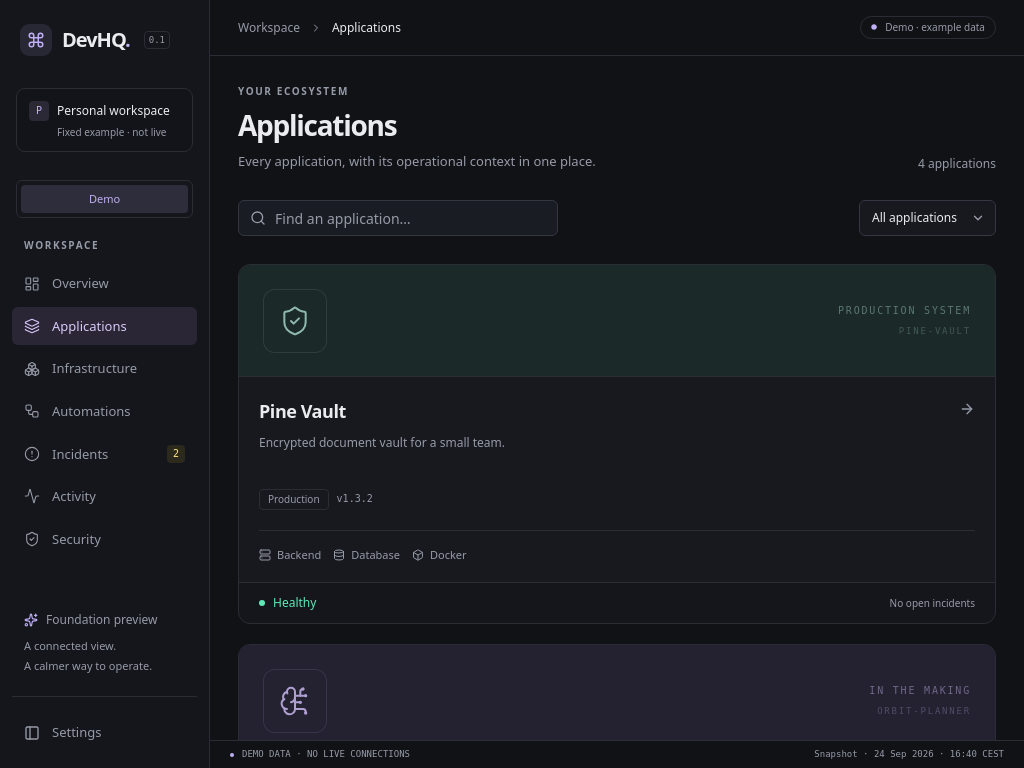
Scenario: workspace navigation › filters applications and recovers from an empty search
This screenshot has width=1024, height=768.
Select "Needs attention" in the dropdown named "Filter applications" at (928, 218), box [859,200,996,236]
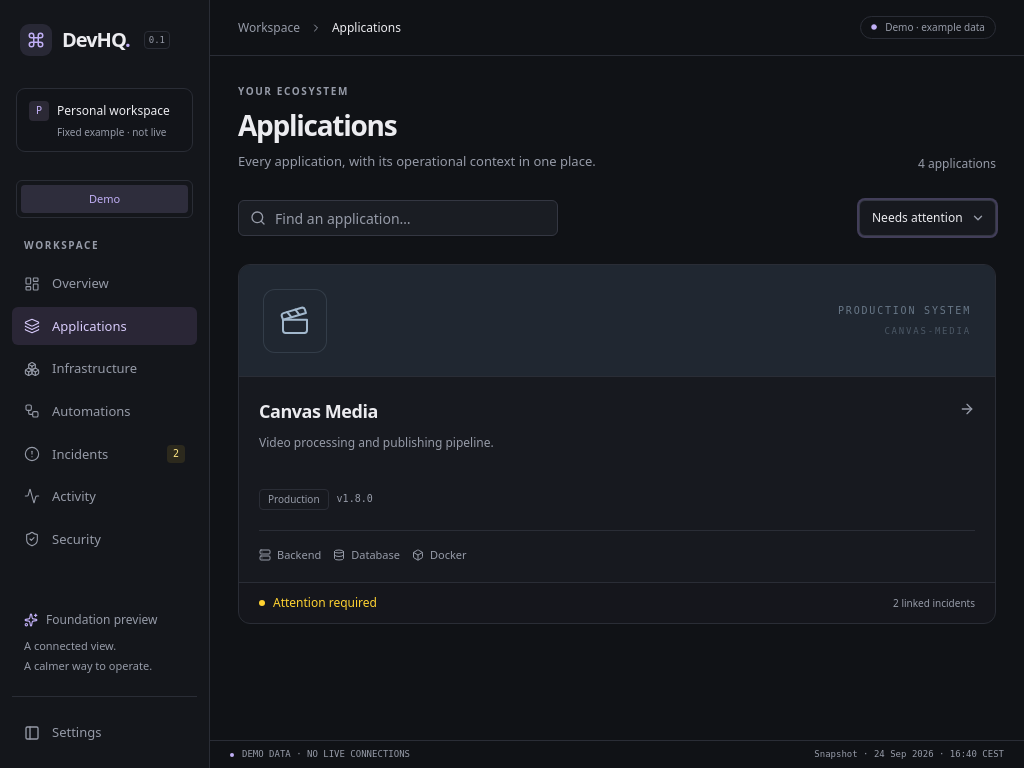
Expected: the link with aria-label "Open Canvas Media" is shown, [238,264,996,624]
Type "no-such-app" into the field named "Search applications" at (398, 218), box [238,200,558,236]
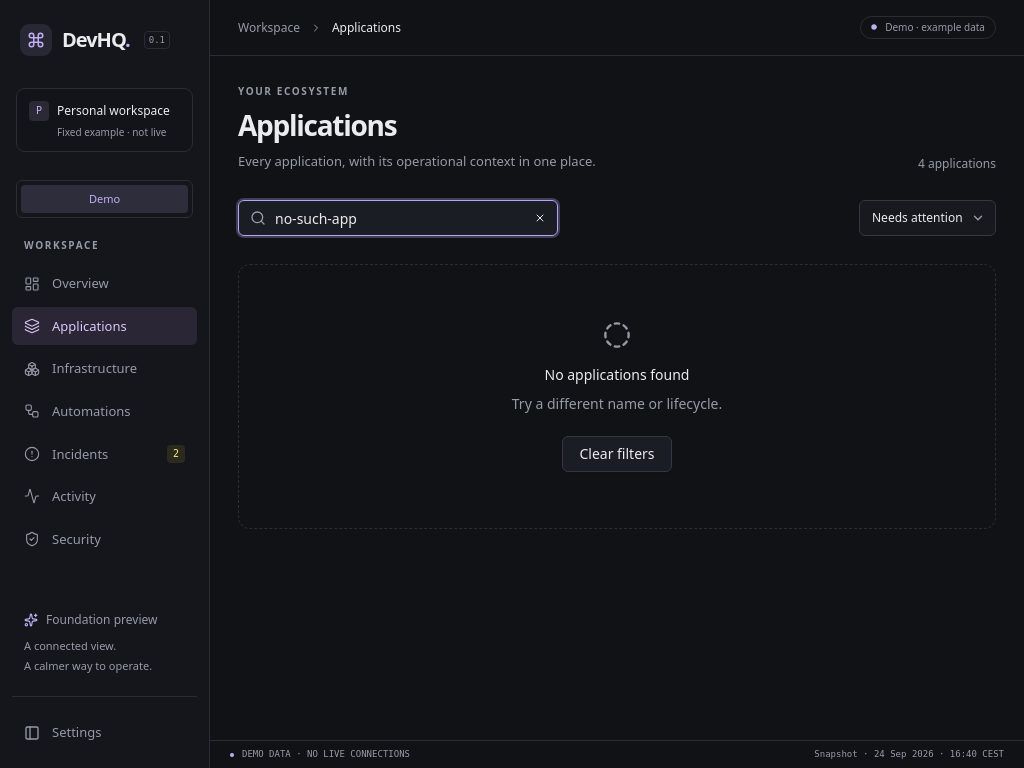
Expected: the heading "No applications found" is shown, [544,365,690,385]
Click the button "Clear filters" at (617, 454), box [562,436,672,472]
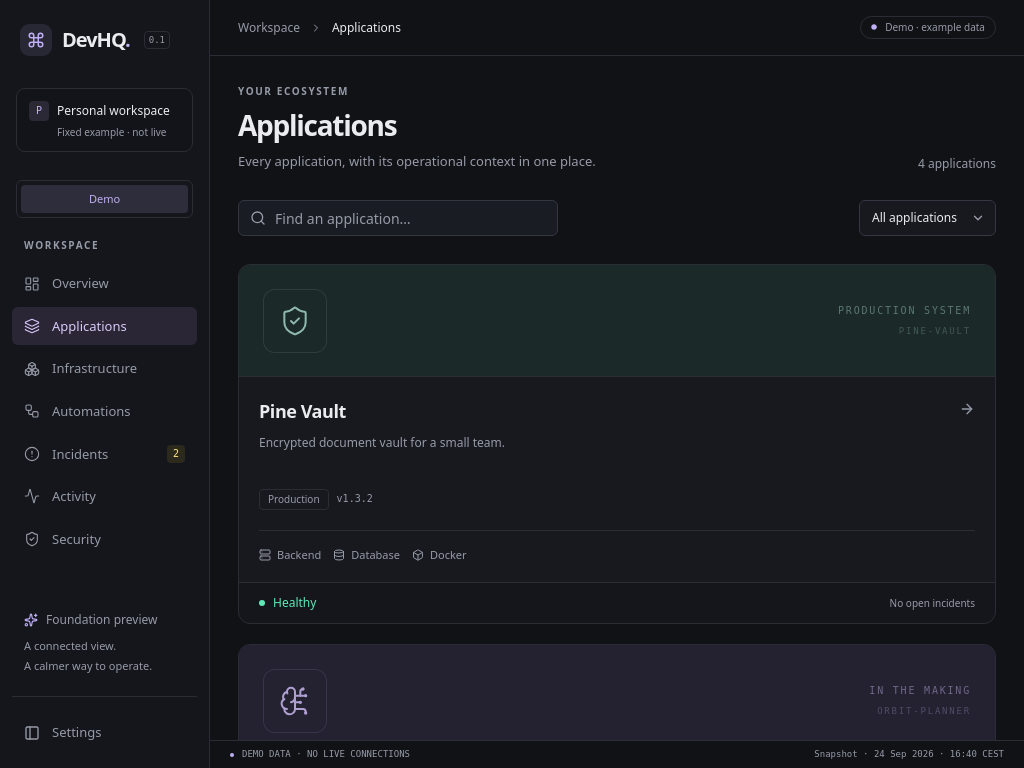
Expected: the number of links named "Open " is 4
